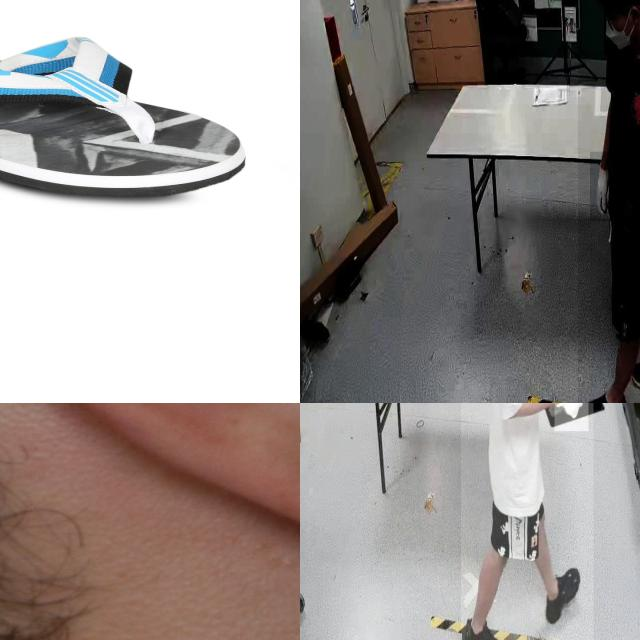No_Ear-Protection: (0, 403, 300, 548)
Sandals: (0, 30, 249, 199)
face_mask: (604, 0, 640, 54)
hand_glove: (590, 152, 614, 221), (554, 403, 588, 431)
person: (461, 403, 594, 640), (578, 0, 640, 403)
shoes: (543, 566, 583, 630), (460, 615, 507, 640), (580, 381, 630, 403), (626, 349, 640, 403)
